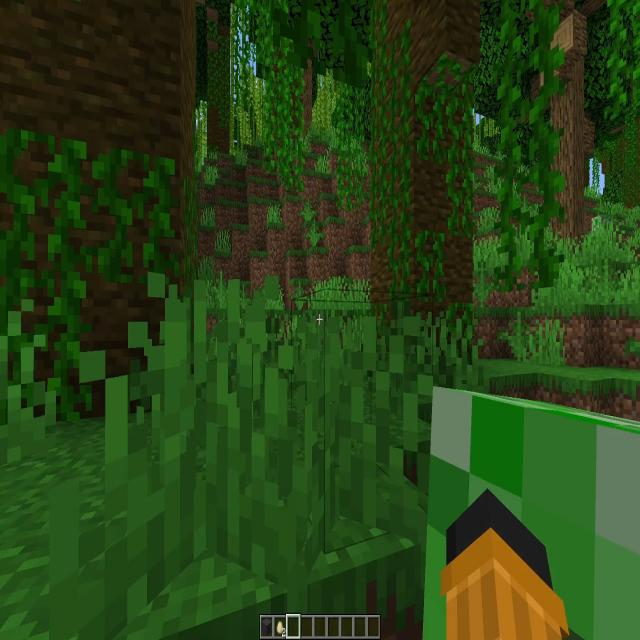Creeper: (437, 392, 640, 640)
